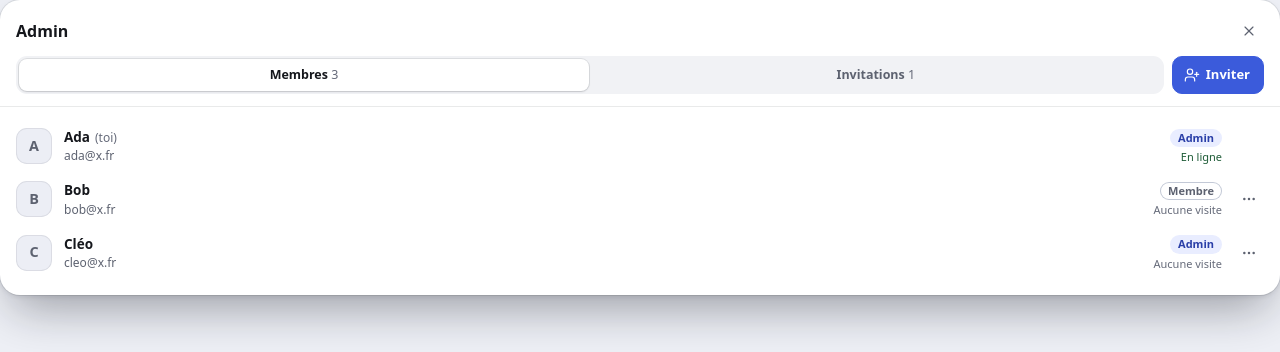
le panneau › les onglets : un clic montre l'autre liste, et l'onglet reprend son nom ; la liste cachée reste montée
Expected: the tab "Membres 3" is shown, [19,59,589,91]
Expected: the text "bob@x.fr" is shown, [64,201,116,218]
Click the tab "Invitations 1": (876, 75) [591,59,1161,91]
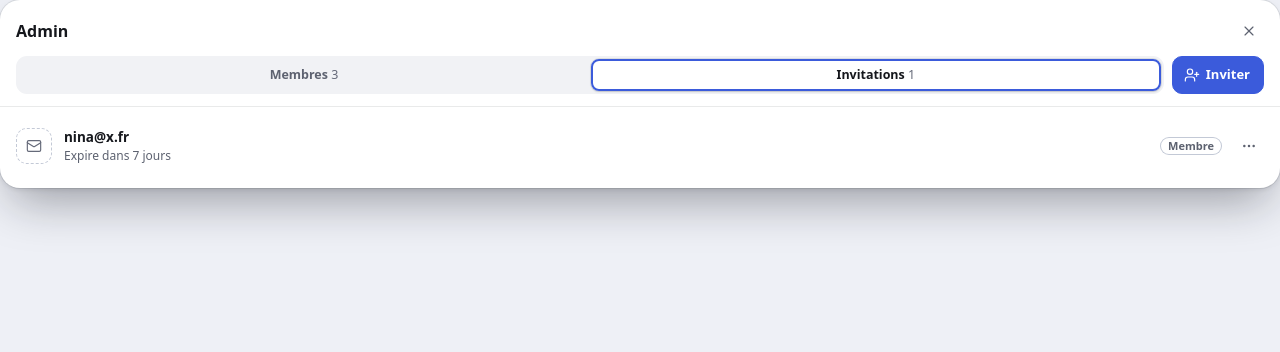
Now the text "nina@x.fr" is shown, box [64,128,129,146]
